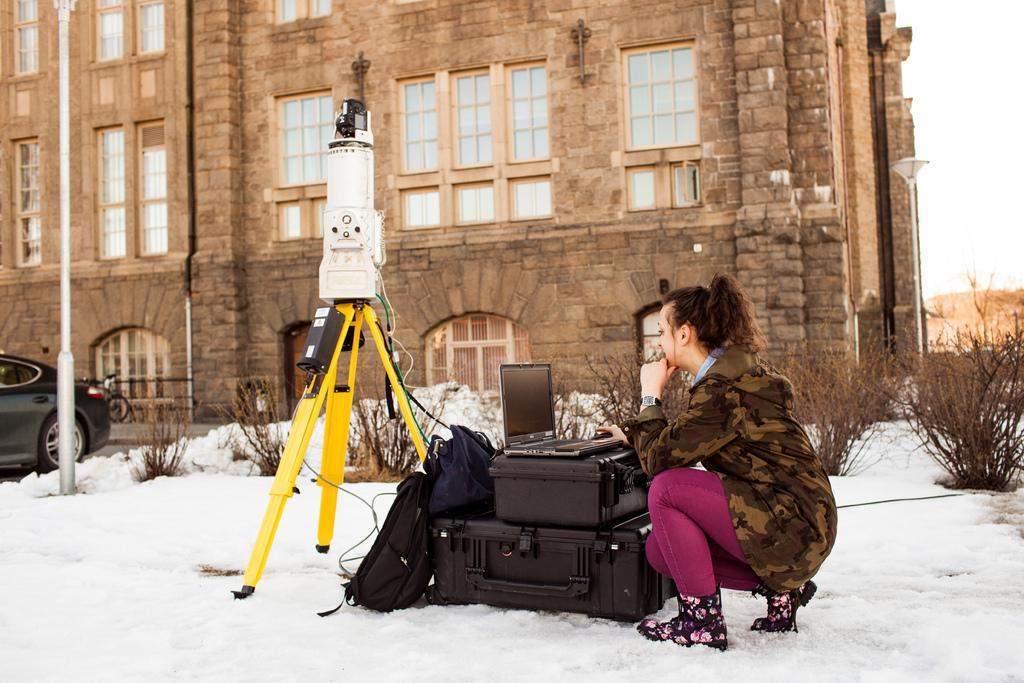Luggage-and-bags: (359, 416, 690, 632)
